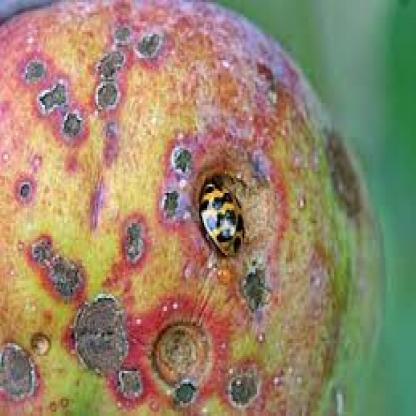damaged_apple: (2, 13, 382, 394)
